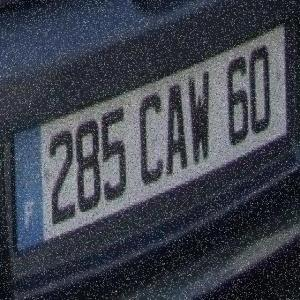Plate: (3, 10, 295, 282)
